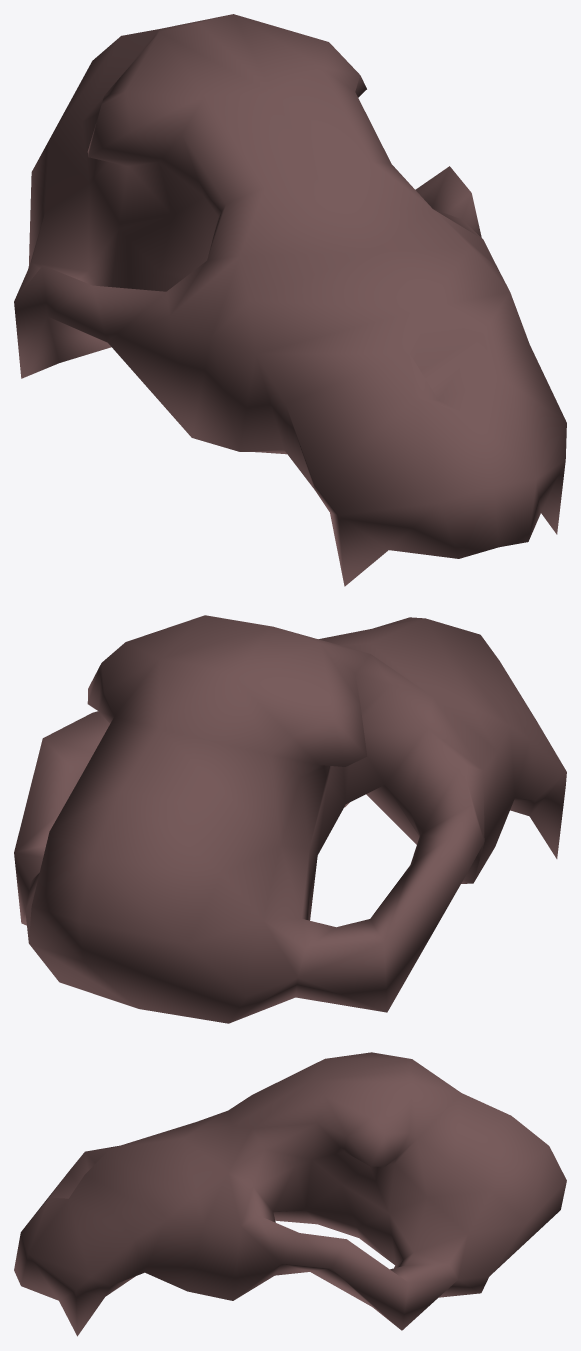
File: SM_DogSkeletonSkull.FBX
The picture shows the model from 3 angles, top to bottom: view 1: azimuth 30°, elevation 25°; view 2: azimuth 150°, elevation 25°; view 3: azimuth 270°, elevation 25°; orthographic projection. The views are drawn at different scales.
Visible parts, largest first — view 1: SM_DogSkeletonSkull; view 2: SM_DogSkeletonSkull; view 3: SM_DogSkeletonSkull.
Boxes of the visible parts, box(x1,y1,x2,y2) form: SM_DogSkeletonSkull: box(14, 14, 566, 586); SM_DogSkeletonSkull: box(14, 615, 566, 1023); SM_DogSkeletonSkull: box(14, 1052, 566, 1336).
Bounding box in the file's own units: 38.41 × 30.81 × 66.44.
